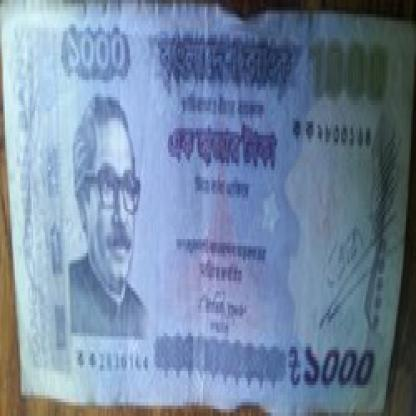One Thousand taka: (306, 31, 390, 114), (284, 336, 378, 395), (64, 24, 132, 80)
